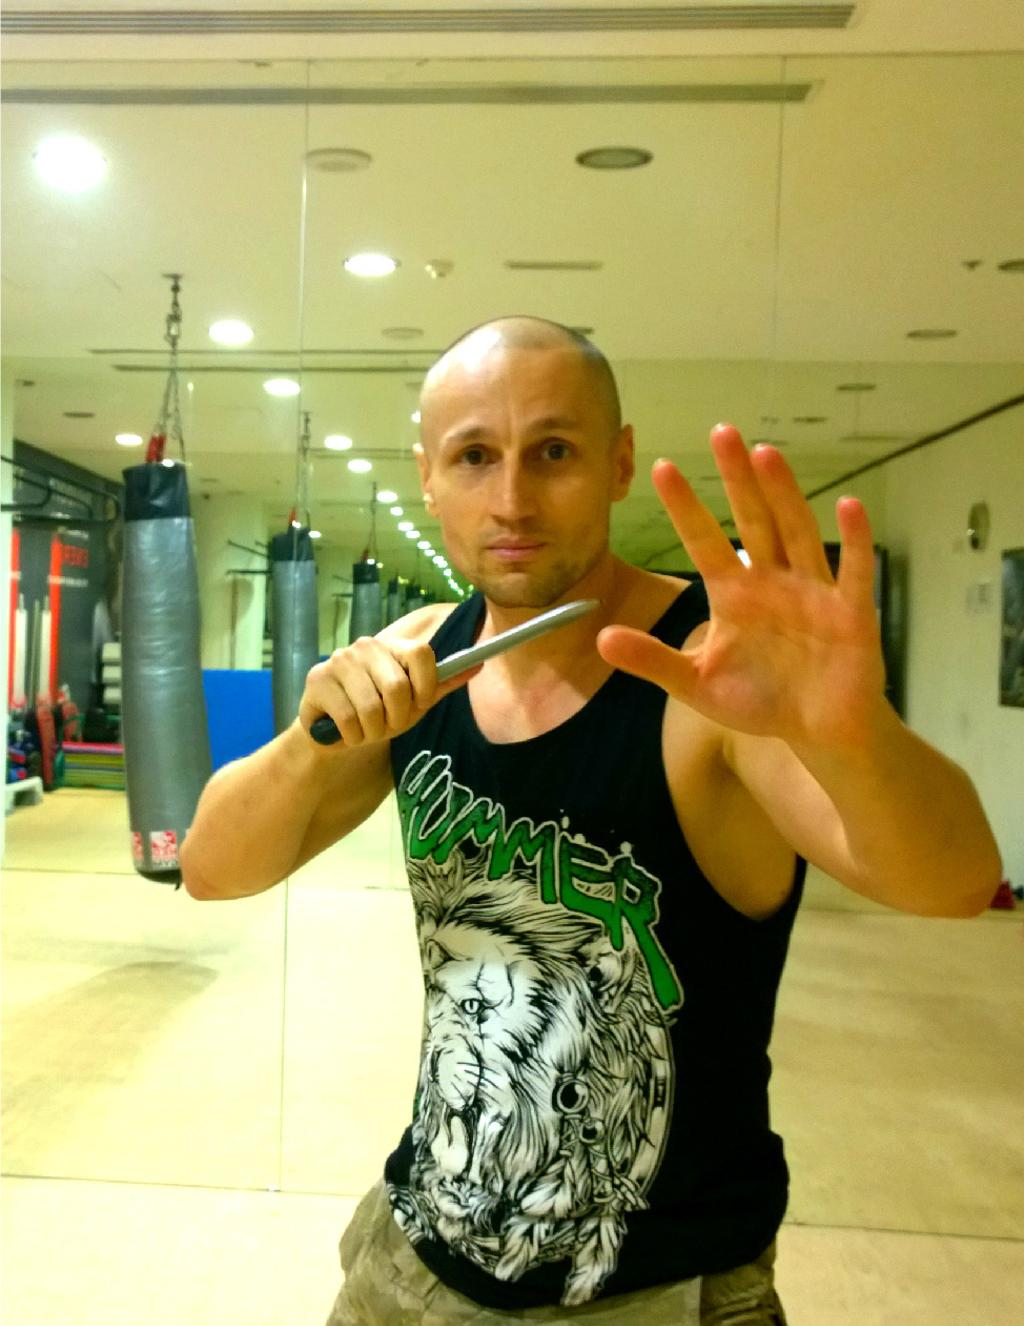face: (430, 376, 604, 596)
